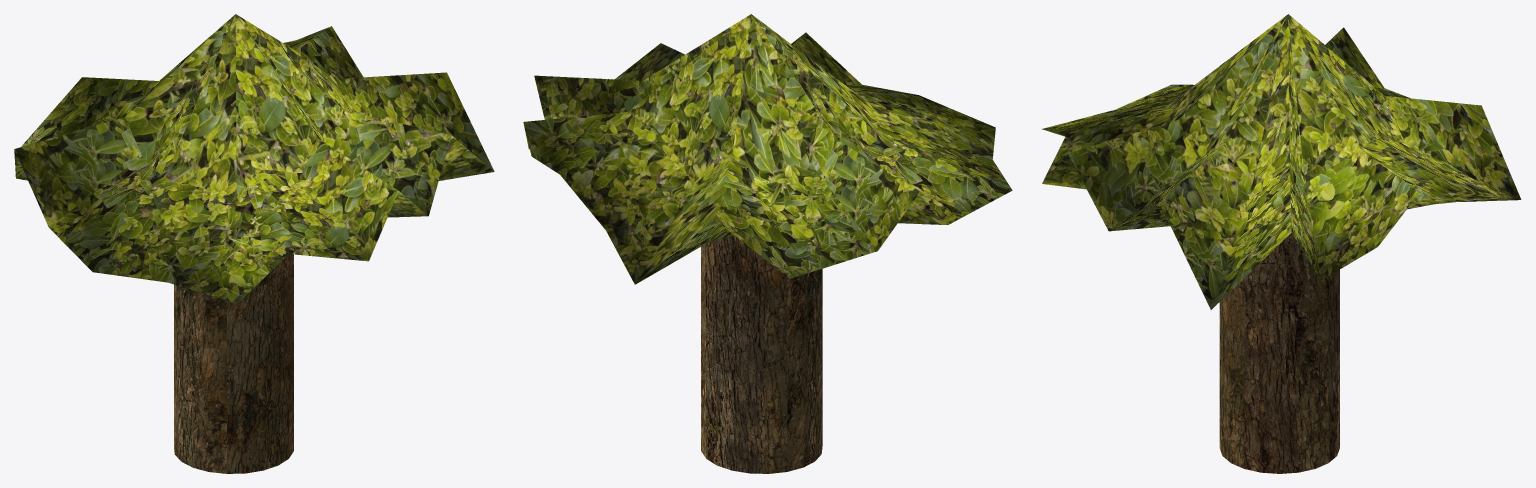
Rendered from tree.obj.
The picture shows the model from 3 angles, left to right: view 1: azimuth 30°, elevation 25°; view 2: azimuth 150°, elevation 25°; view 3: azimuth 270°, elevation 25°; orthographic projection.
Visible parts, largest first — view 1: Cylinder; view 2: Cylinder; view 3: Cylinder.
Boxes of the visible parts, x1,y1,x2,y2 form: Cylinder: [14, 14, 494, 473]; Cylinder: [523, 14, 1012, 473]; Cylinder: [1042, 14, 1521, 473].
Size of the model in its own units: 2.12 by 2.07 by 2.06.
